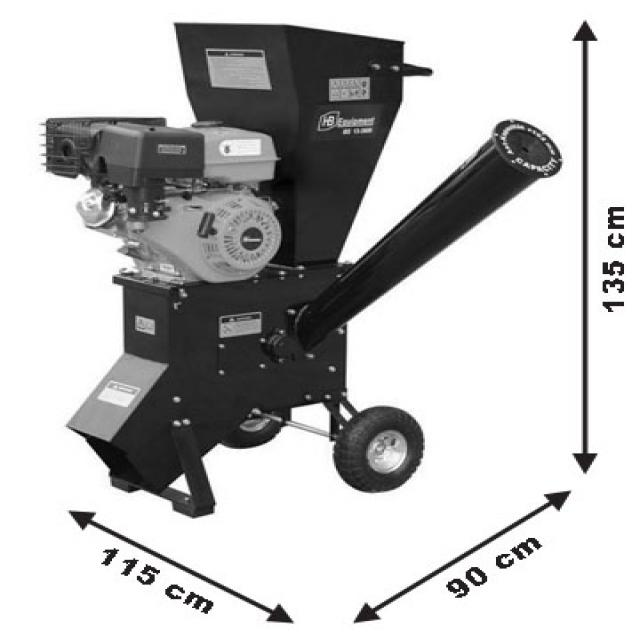Broyeur: (163, 12, 430, 176)
